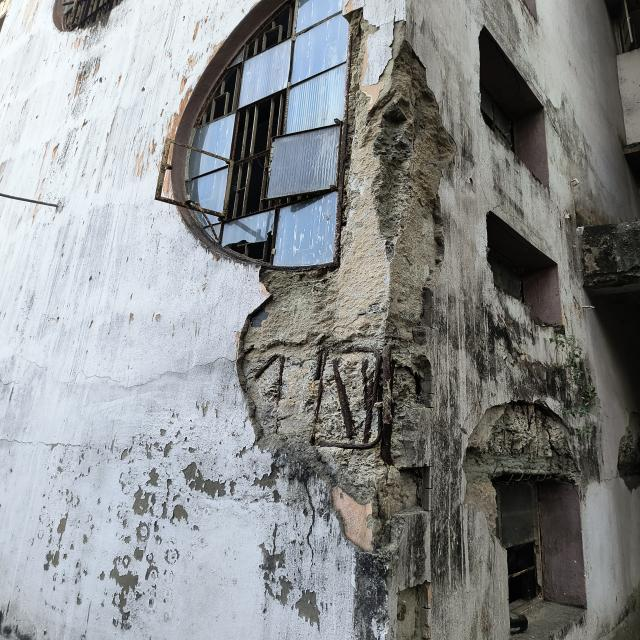peeling: (17, 420, 349, 637)
spalling: (228, 5, 474, 612), (466, 393, 595, 488)
stain_mould: (469, 274, 607, 436), (550, 94, 639, 284), (483, 115, 560, 266)
